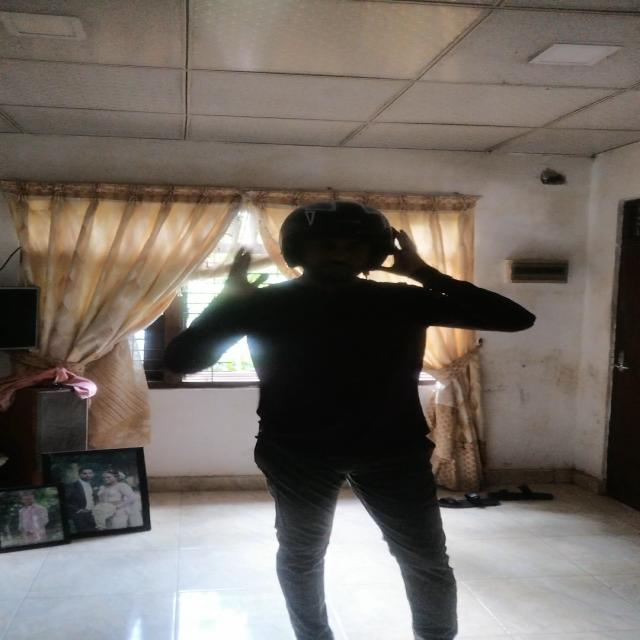Helmet_Wearer: (258, 203, 407, 279)
Person: (189, 196, 503, 640)
